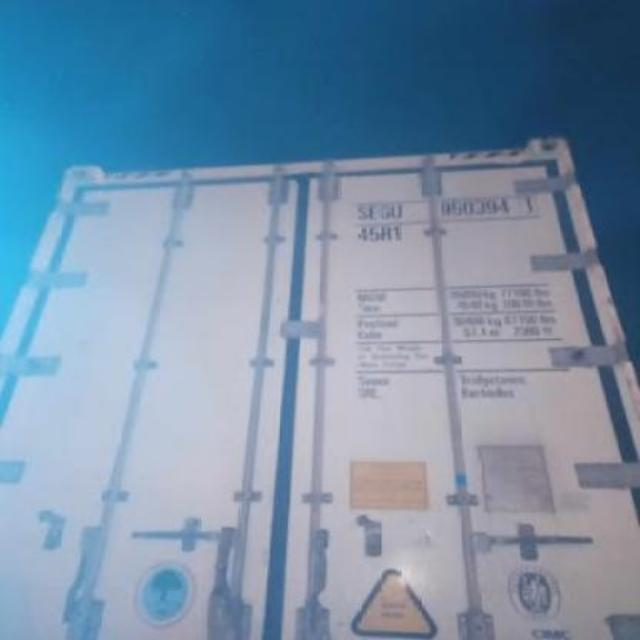0: (462, 193, 474, 217)
1: (518, 189, 540, 215)
3: (474, 197, 486, 215)
4: (498, 192, 512, 216)
5: (450, 194, 462, 222)
9: (434, 195, 450, 218), (486, 189, 498, 219)
E: (366, 196, 378, 224)
G: (378, 195, 392, 225)
S: (356, 198, 368, 220)
U: (391, 203, 404, 219)
